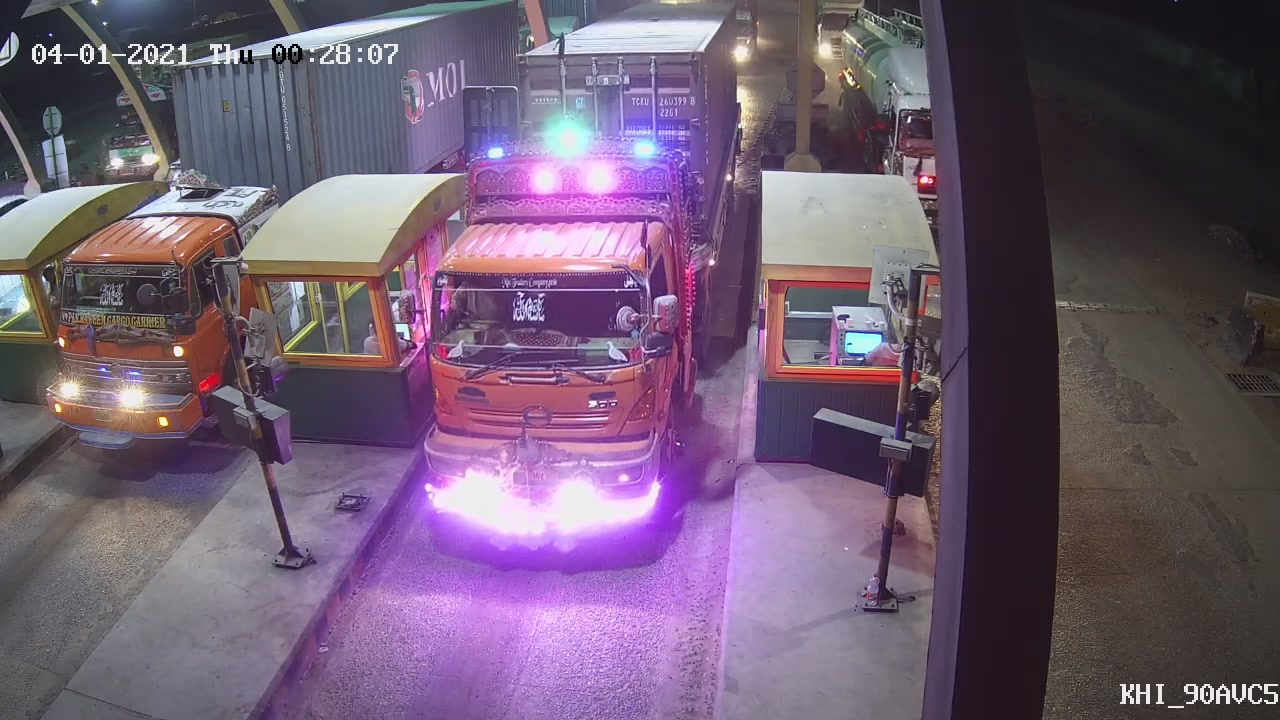F6: (411, 1, 739, 582)
